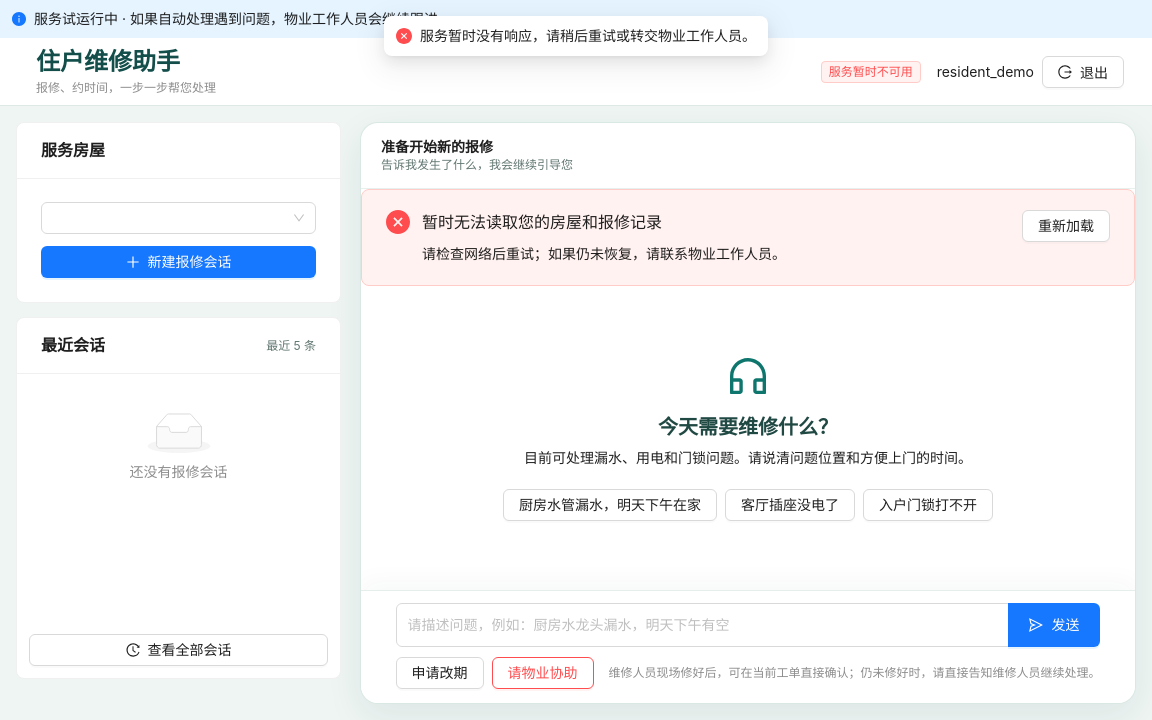
it: shows a recoverable error when resident bootstrap data cannot be loaded
Expected: the text "服务暂时不可用" is shown, [821,60,921,82]
Expected: the text "暂时无法读取您的房屋和报修记录" is shown, [422,212,662,232]
Click the button "重新加载" at coordinates (1066, 226), box [1022,210,1110,242]
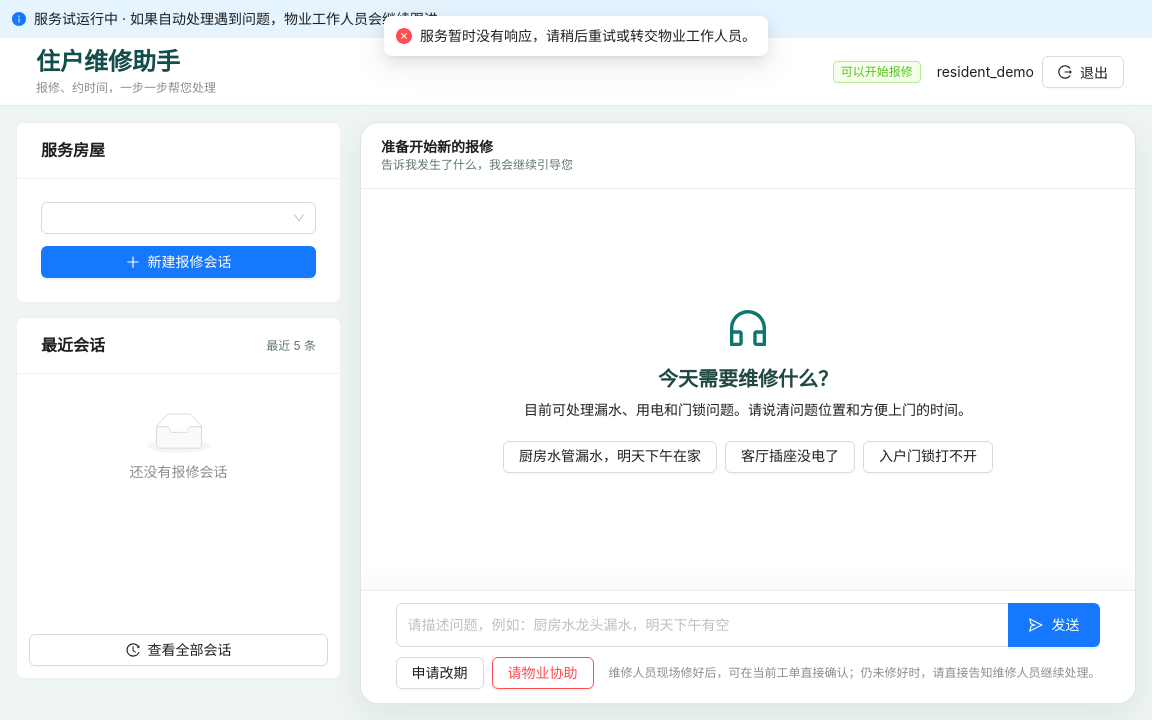
Now the text "可以开始报修" is shown, box [833,60,921,82]
